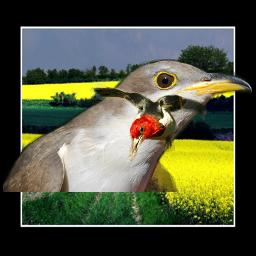Cuckoo: (3, 59, 252, 192)
Woodpecker: (86, 80, 207, 163)
